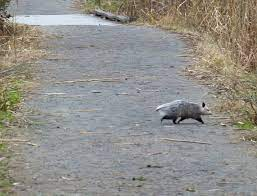opossum: (155, 100, 213, 126)
